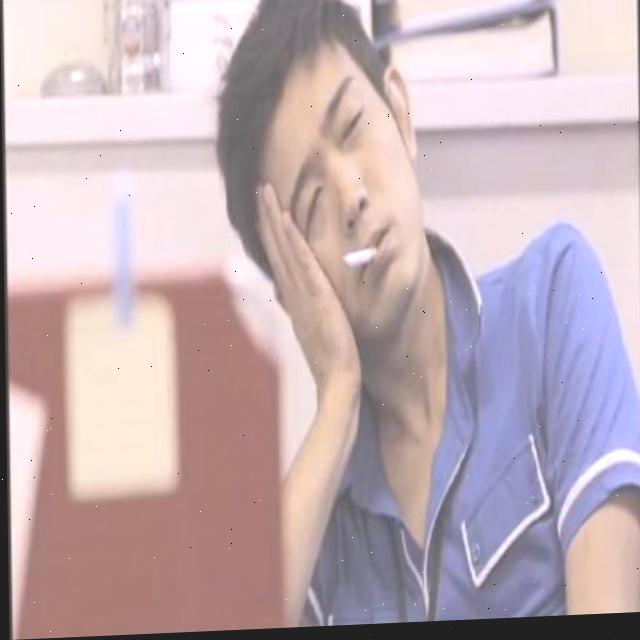cigarette: (340, 247, 378, 272)
